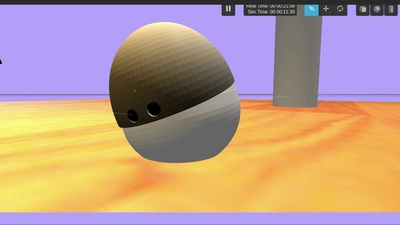mira_robot: (109, 20, 241, 164)
